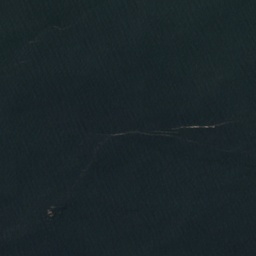Marine Debris: (96, 121, 229, 150), (28, 40, 35, 45)
